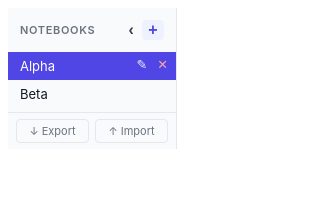
it: NotebookList delete › shows confirmation when delete button is clicked
Step 1. Click the button named "Delete \"Alpha\"" → coordinates (163, 66), box [153,57,172,75]
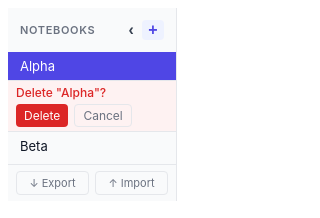
Result: the text "Delete \"Alpha\"?" is shown at [16,85,106,100]
Result: the button "Delete" is shown at [16,104,68,127]
Result: the button "Cancel" is shown at [74,104,132,127]
